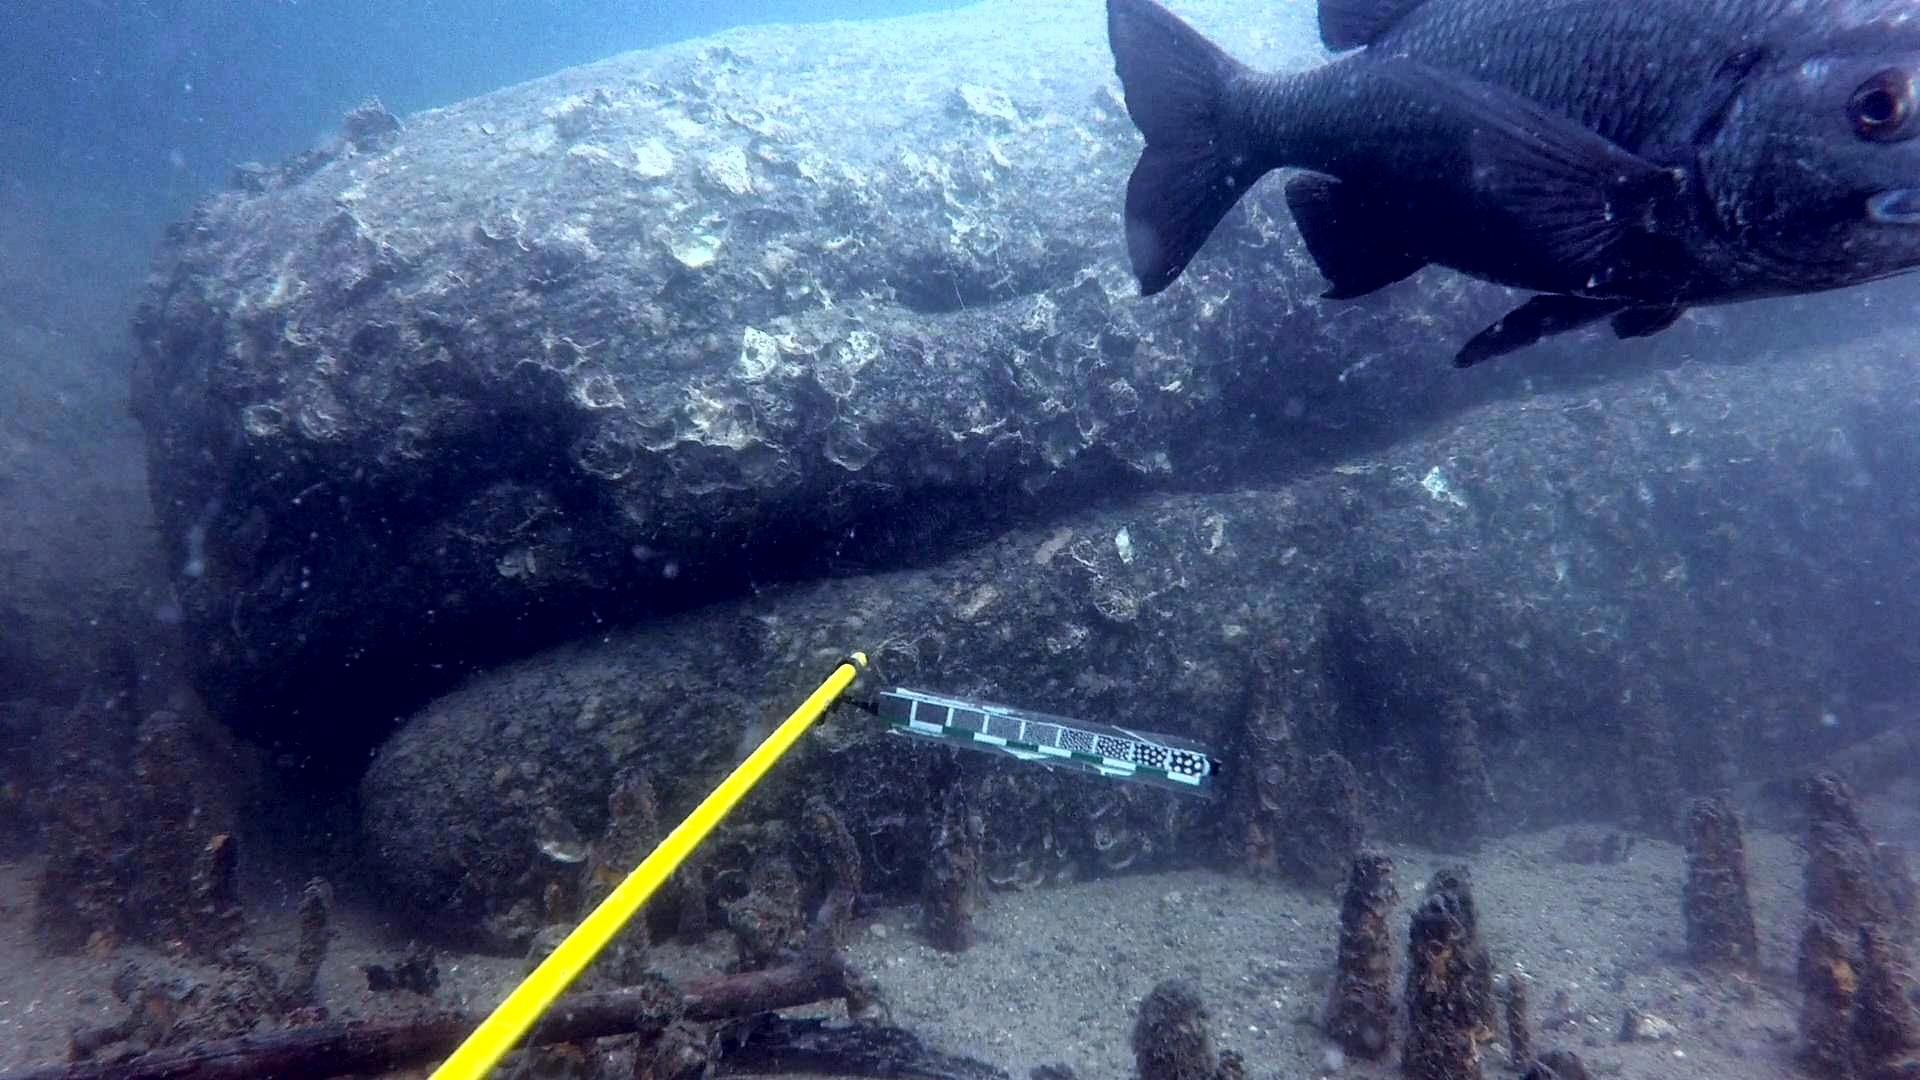acanthopagrus palmaris: (1105, 0, 1920, 369)
